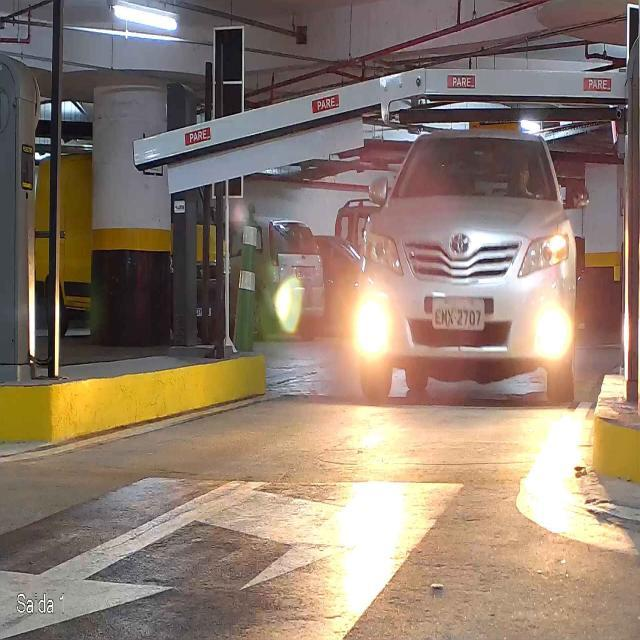old_plate: (431, 295, 487, 332)
